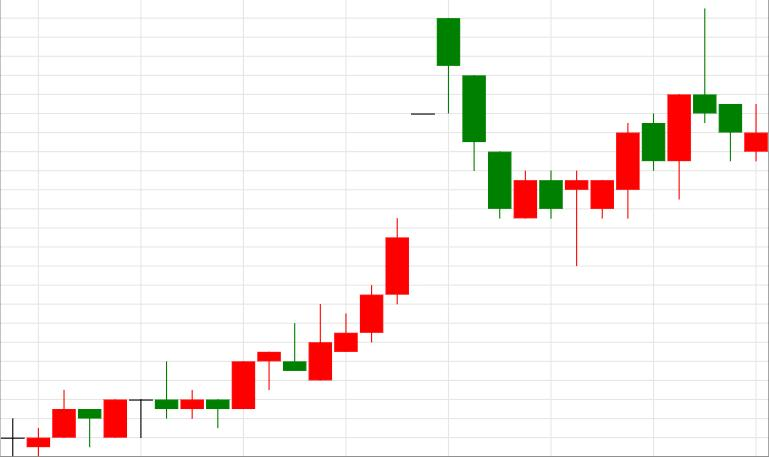three_black_crows_fall: (309, 17, 511, 382)
